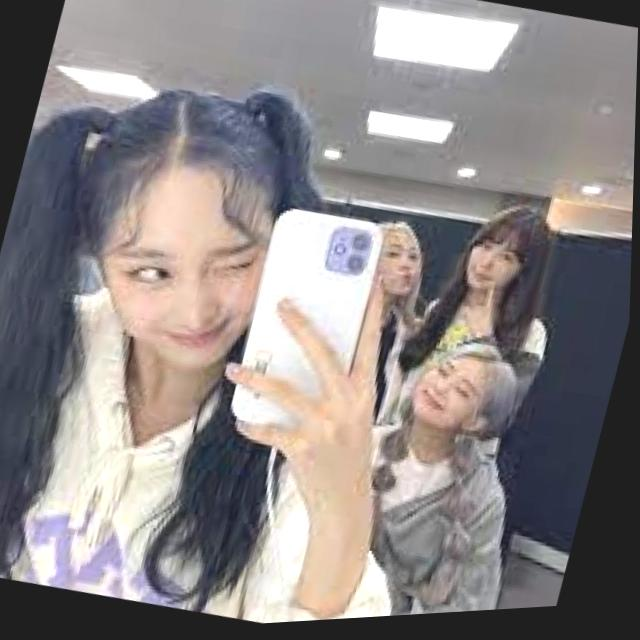Smartphone: (207, 198, 409, 488)
